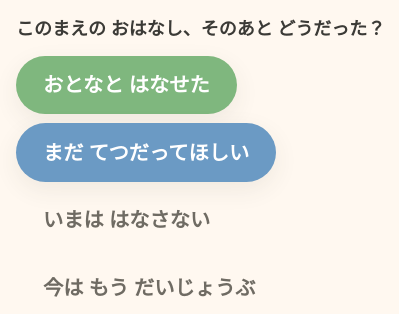
Scenario: does not promise a scheduled or stopped followup when an older response omits continuation
Click the button "おとなと はなせた": coordinates (126, 85) [16,56,237,114]
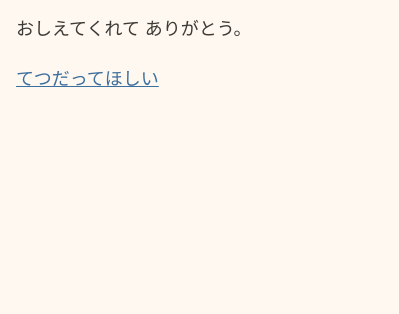
Now the message reads "おしえてくれて ありがとう。", box [16,16,252,40]
